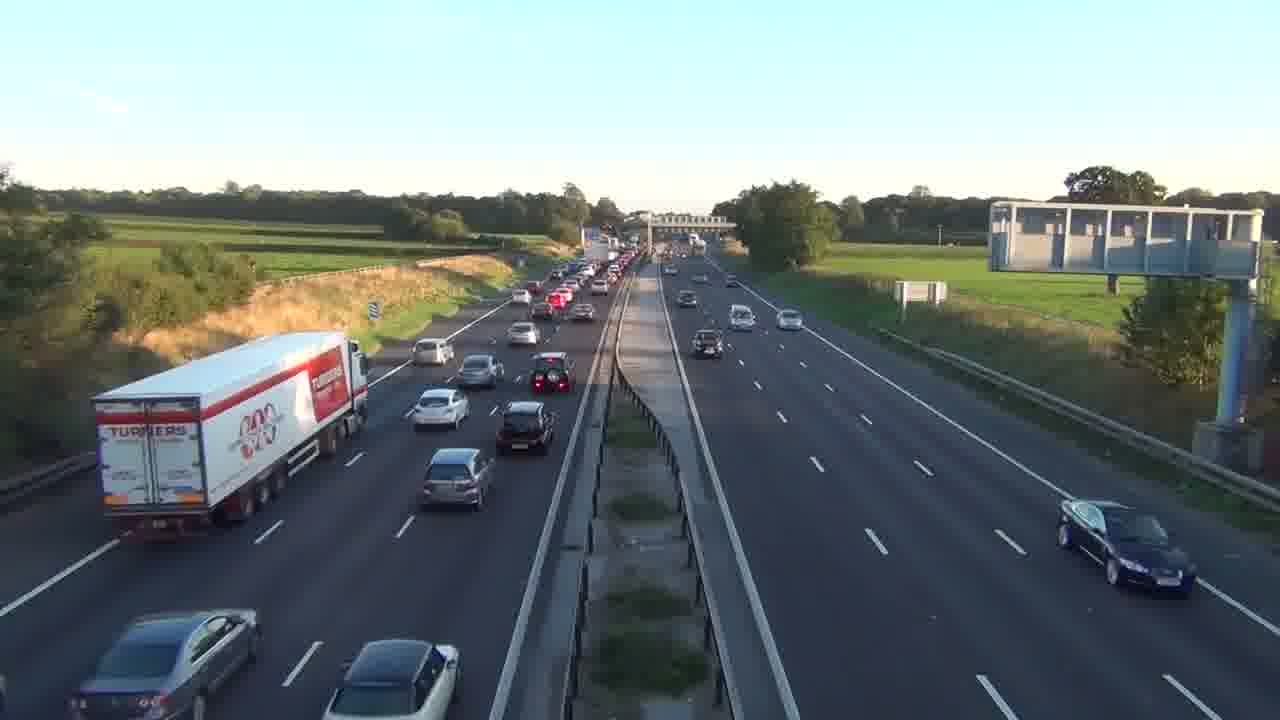car: (64, 607, 260, 718), (1055, 497, 1198, 598), (321, 637, 463, 719), (417, 446, 495, 513), (495, 399, 557, 454), (406, 385, 470, 432), (529, 351, 576, 394), (458, 352, 505, 390), (413, 336, 455, 366), (506, 321, 541, 346), (777, 307, 804, 331)
truck: (93, 329, 371, 539), (1055, 497, 1198, 598)
